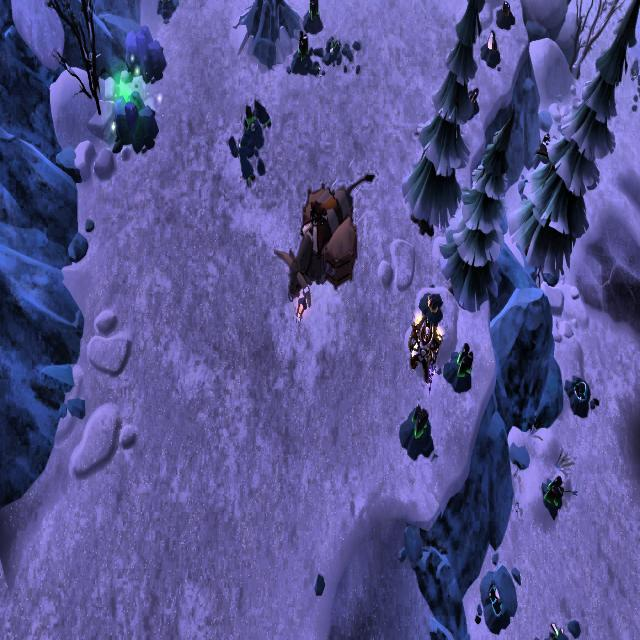ore_t3: (544, 471, 564, 515), (410, 402, 429, 438), (456, 341, 474, 378), (296, 24, 309, 69), (305, 0, 323, 17)
rock_t4: (107, 80, 158, 153), (123, 18, 170, 90)
